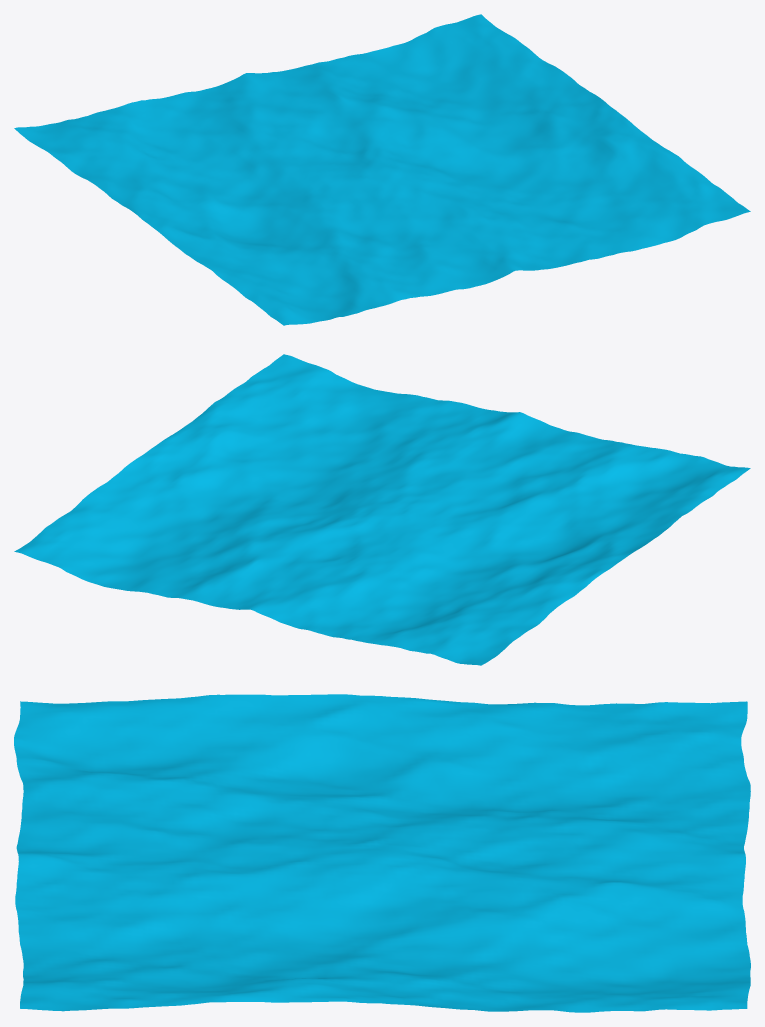
The model's file is Oceanin.fbx.
3 views of the same model, one above another, from view 1: azimuth 30°, elevation 25°; view 2: azimuth 150°, elevation 25°; view 3: azimuth 270°, elevation 25° (orthographic). The views are drawn at different scales.
Visible parts, largest first — view 1: MarCalmo; view 2: MarCalmo; view 3: MarCalmo.
Boxes of the visible parts, x1=… form: MarCalmo: x1=14, y1=14, x2=750, y2=325; MarCalmo: x1=14, y1=354, x2=750, y2=665; MarCalmo: x1=14, y1=694, x2=750, y2=1012.
Bounding box in the file's own units: 5068 × 221 × 5067.
